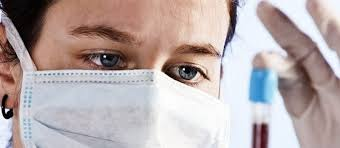mask: (16, 5, 235, 147)
